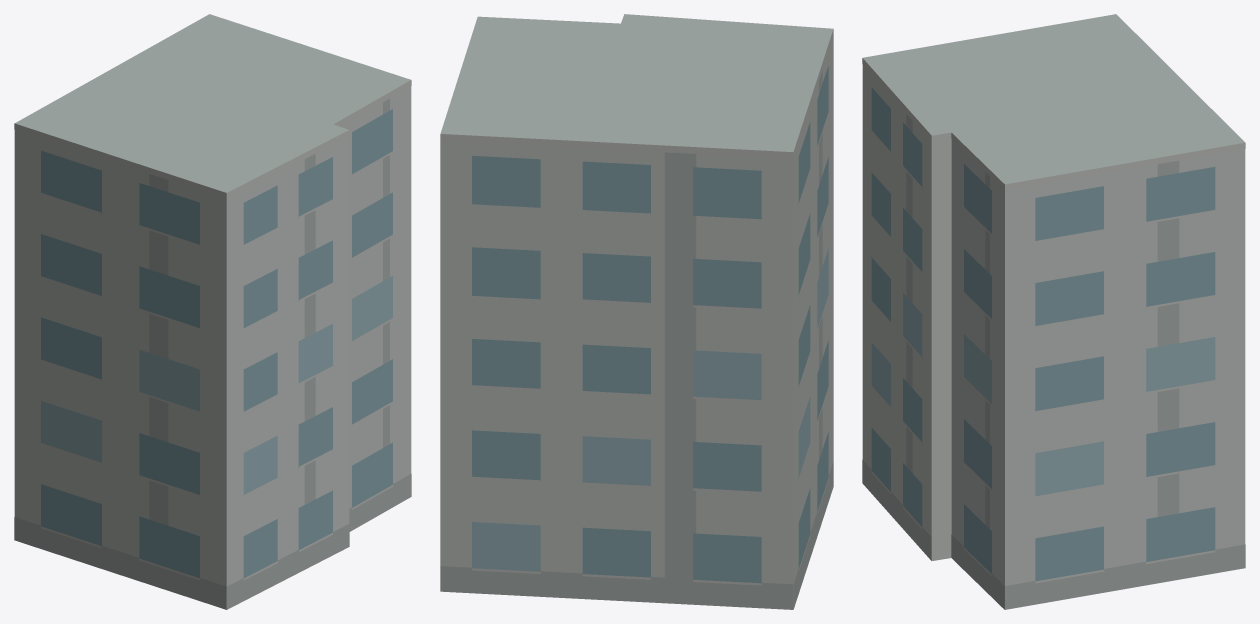
The model's file is survey-upis-32966074.glb.
3 views of the same model, side by side, from view 1: azimuth 30°, elevation 25°; view 2: azimuth 150°, elevation 25°; view 3: azimuth 270°, elevation 25° (orthographic). The views are drawn at different scales.
Visible parts, largest first — view 1: survey-upis-32966074.tmp; view 2: survey-upis-32966074.tmp; view 3: survey-upis-32966074.tmp.
Boxes of the visible parts, x1,y1,x2,y2 form: survey-upis-32966074.tmp: [14, 14, 411, 609]; survey-upis-32966074.tmp: [440, 14, 833, 609]; survey-upis-32966074.tmp: [862, 14, 1245, 609].
Size of the model in its own units: 14.05 by 16.35 by 13.35.
